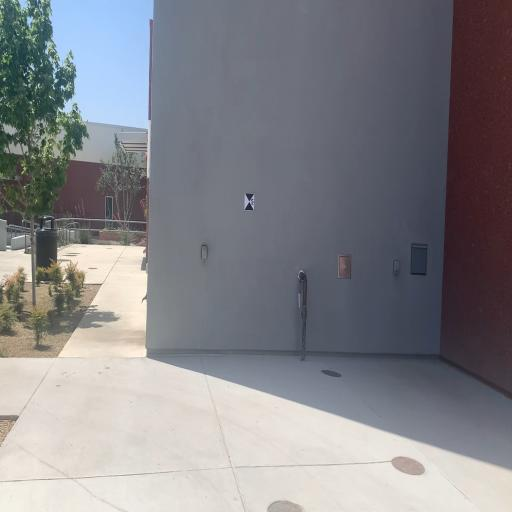target5: (244, 193, 254, 212)
